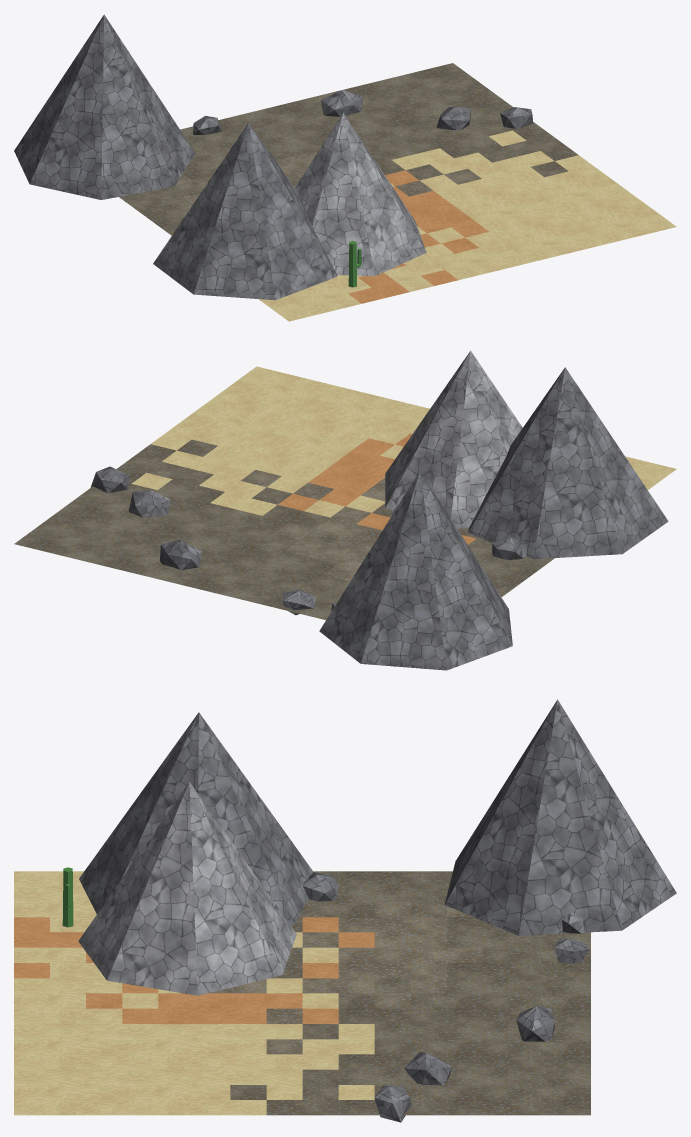
The model's file is chunk_11_20.glb.
3 views of the same model, one above another, from view 1: azimuth 30°, elevation 25°; view 2: azimuth 150°, elevation 25°; view 3: azimuth 270°, elevation 25° (orthographic). The views are drawn at different scales.
Parts seen in each view (by area): view 1: chunk_11_20; view 2: chunk_11_20; view 3: chunk_11_20.
Boxes of the visible parts, x1,y1,x2,y2 form: chunk_11_20: (14,14,676,321); chunk_11_20: (14,350,676,670); chunk_11_20: (14,699,676,1122).
Size of the model in its own units: 18.37 by 6.28 by 18.38.
Materials: 7 (6 with a texture image).
